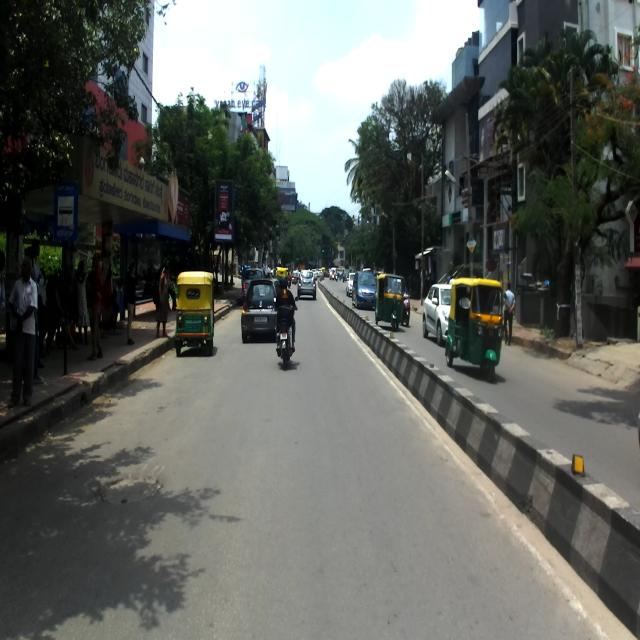auto ahead at: (172, 264, 214, 358)
car ahead at: (240, 273, 279, 348)
person ahead at: (3, 257, 40, 408)
